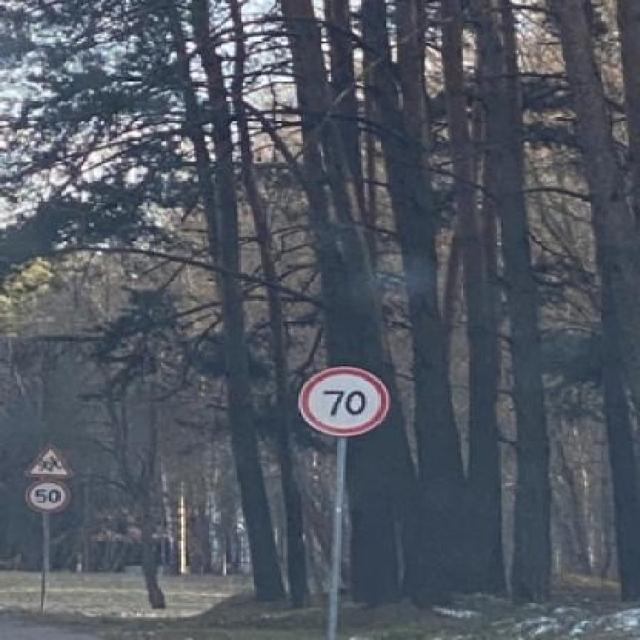forb_speed_over_50: (25, 480, 71, 512)
forb_speed_over_70: (299, 369, 387, 436)
